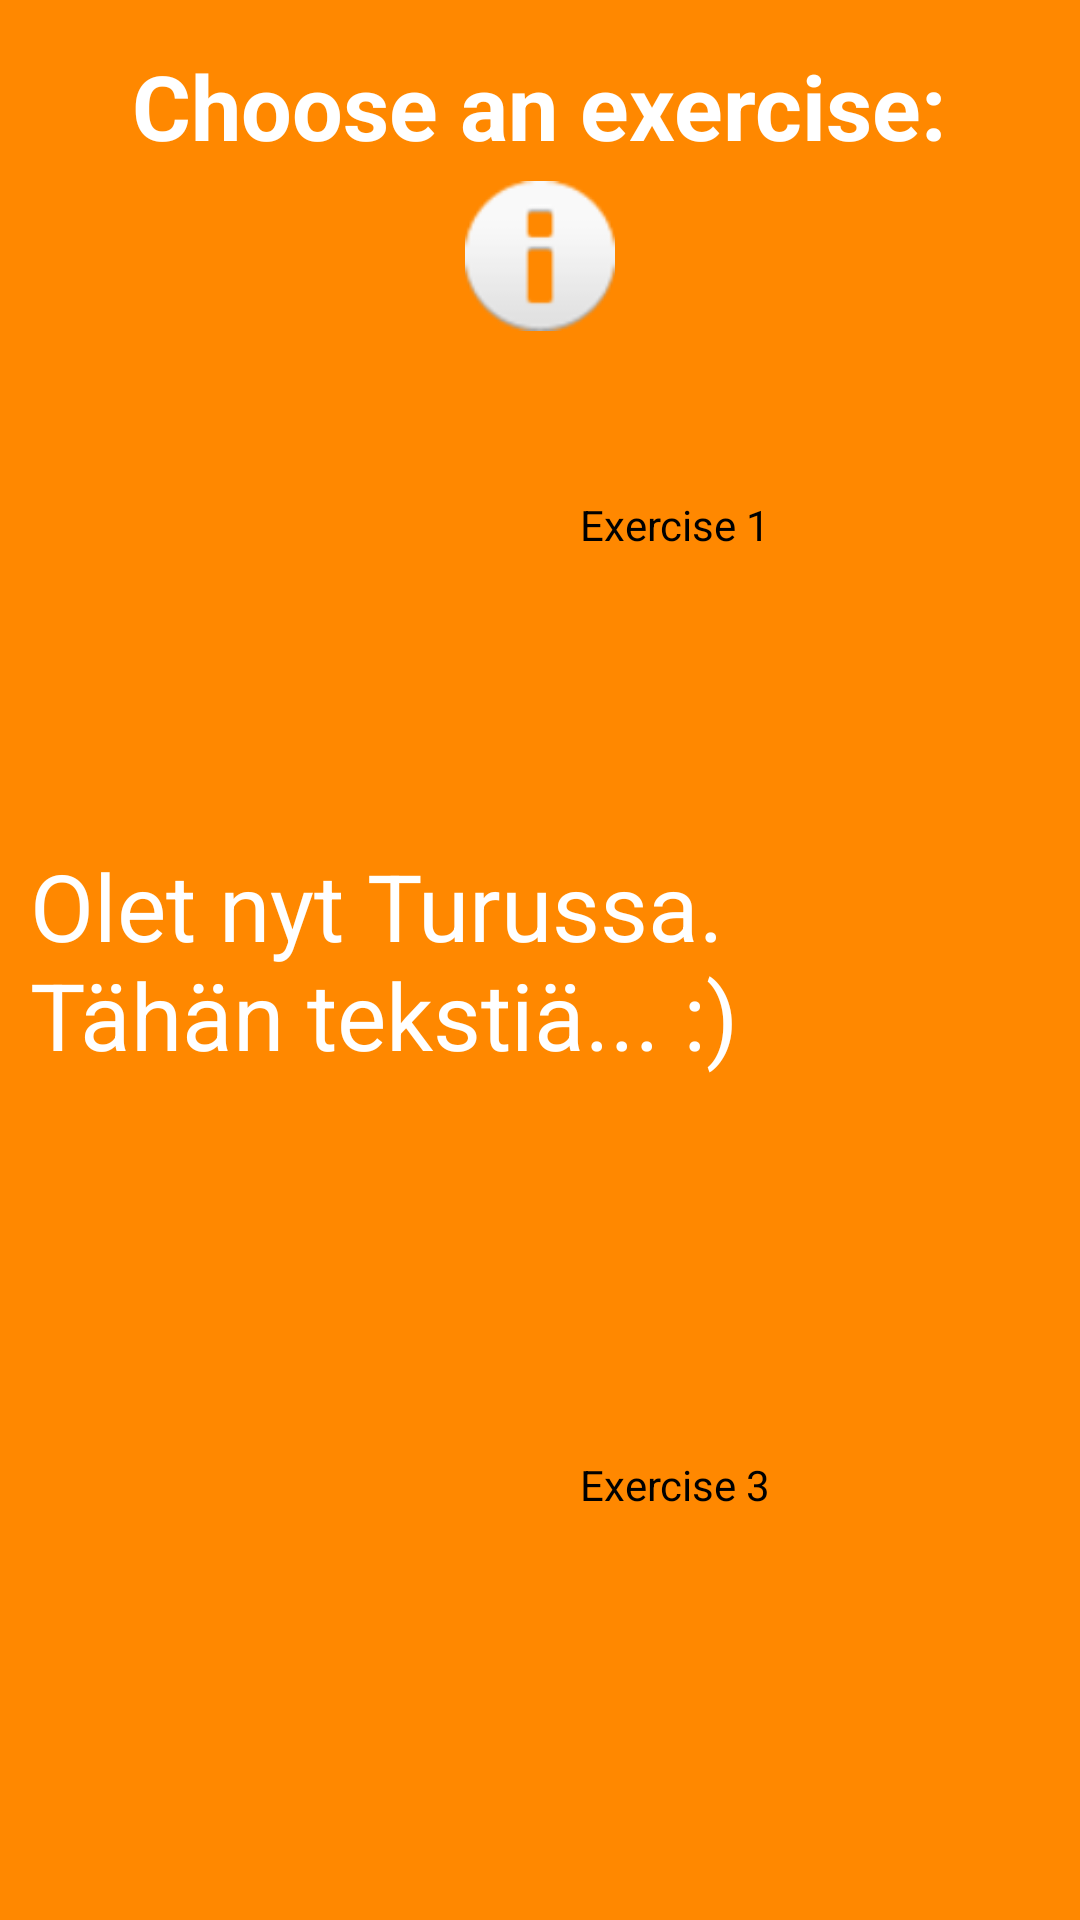

Icons on this 1080×1920 Android screen, each with its box as (x1, y1, x2, y2):
info: (465, 181, 615, 331)
